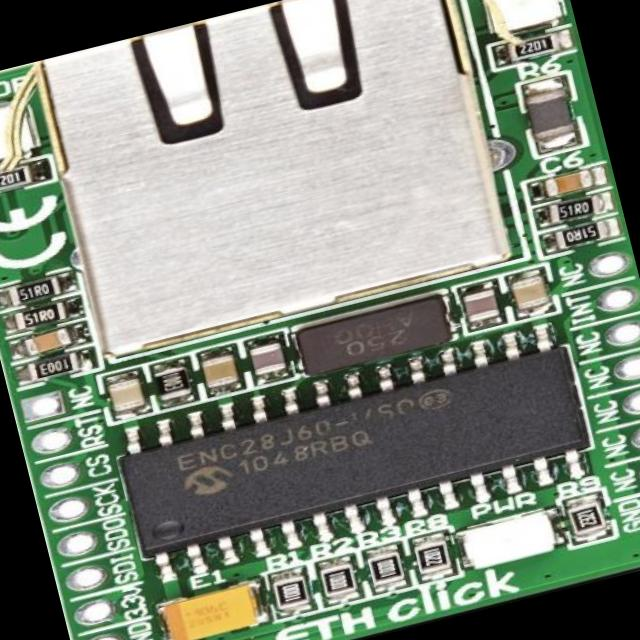IC: (108, 337, 593, 580)
LED: (456, 502, 556, 574), (472, 0, 569, 40), (0, 93, 48, 171)
capacitor: (151, 579, 272, 640), (241, 336, 291, 384), (540, 168, 602, 200), (16, 325, 74, 359), (507, 271, 552, 314), (457, 284, 505, 324), (101, 374, 144, 415), (202, 350, 242, 392)
connector: (23, 0, 533, 366)
resistor: (310, 558, 368, 604), (541, 192, 612, 228), (23, 352, 88, 384), (552, 221, 614, 252), (508, 30, 568, 61), (9, 276, 69, 306), (416, 536, 461, 576), (564, 498, 607, 538), (15, 302, 72, 332), (273, 573, 310, 614), (0, 162, 42, 195), (155, 364, 190, 402), (372, 550, 408, 586)
